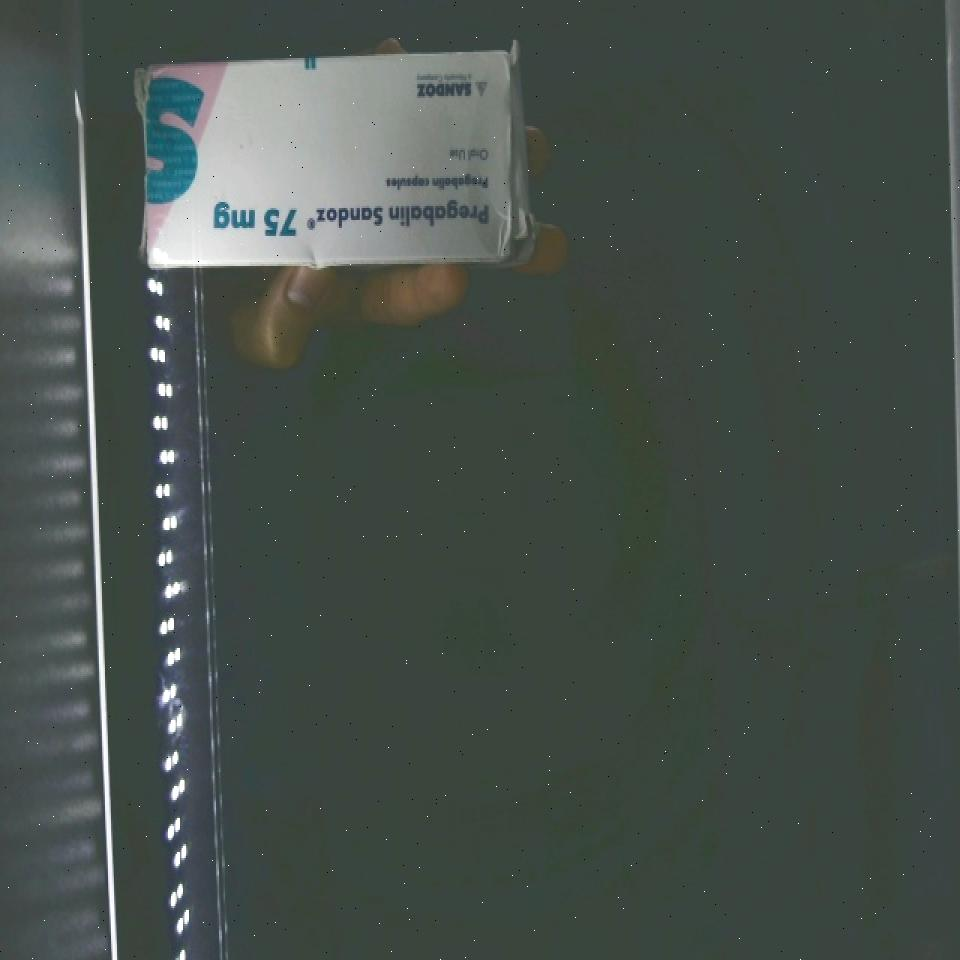medicine_box: (136, 43, 528, 269)
medicine_label_obb: (302, 183, 513, 248)
